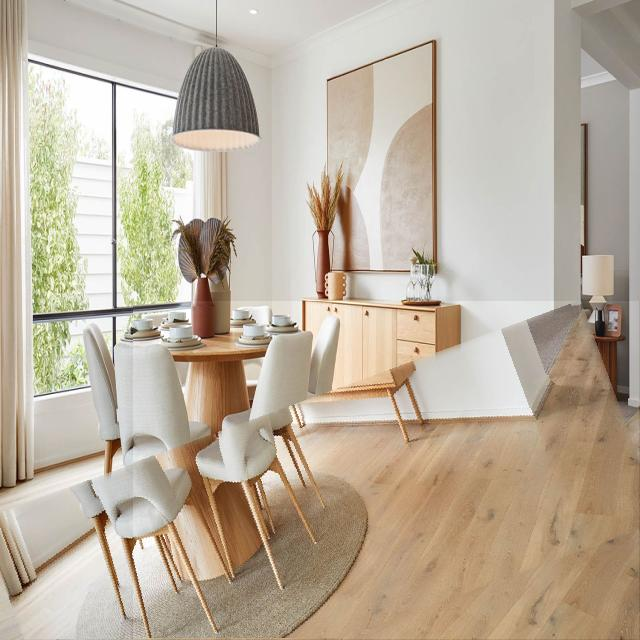floor: (133, 302, 640, 639), (9, 530, 146, 640)
